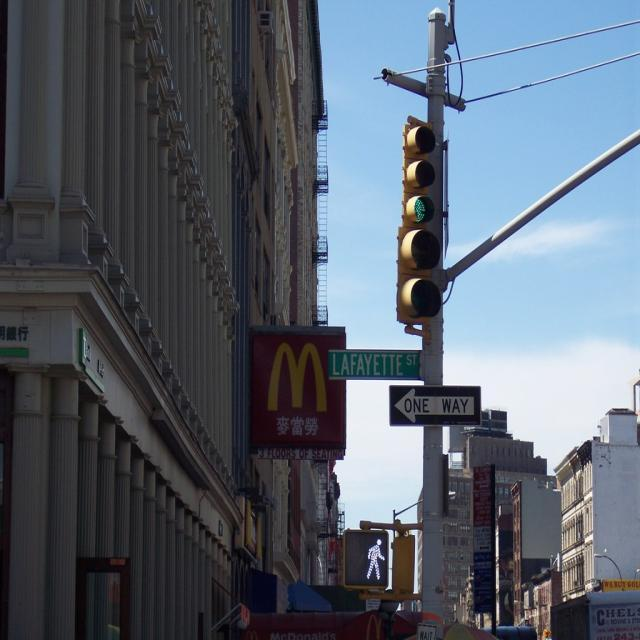traffic light: (394, 119, 441, 326)
